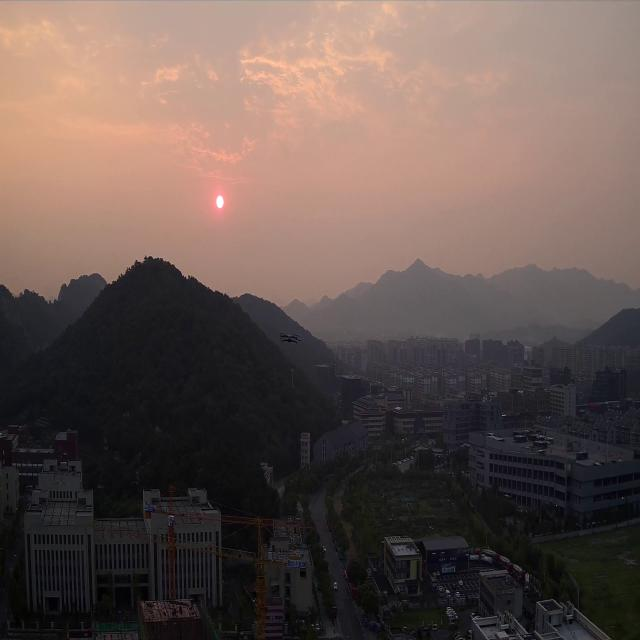UAV: (278, 332, 303, 346)
